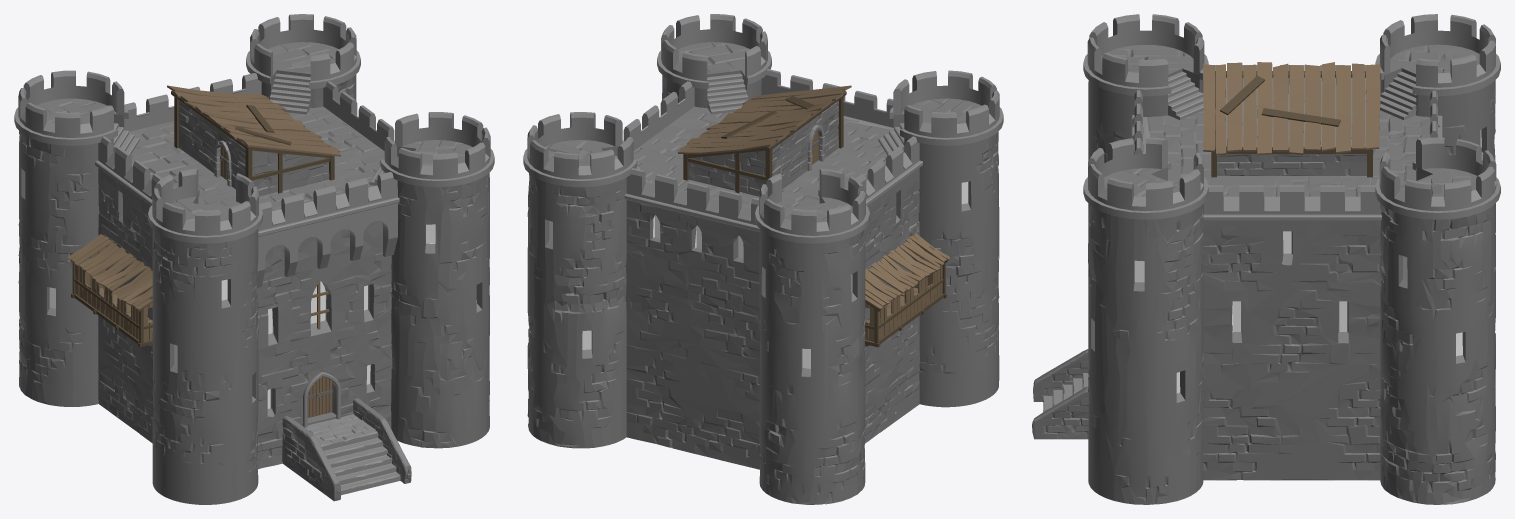
Rendered from castle_keep_a.FBX.
3 renders of one model, left to right at view 1: azimuth 30°, elevation 25°; view 2: azimuth 150°, elevation 25°; view 3: azimuth 270°, elevation 25°, orthographic. The views are drawn at different scales.
Parts seen in each view (by area): view 1: castle_keep_a; view 2: castle_keep_a; view 3: castle_keep_a.
Part boxes in pixels (box(x1,y1,x2,y2)): castle_keep_a: box(14, 14, 494, 504); castle_keep_a: box(523, 14, 1003, 504); castle_keep_a: box(1032, 14, 1500, 504).
Bounding box in the file's own units: 21.45 × 18.75 × 24.08.
